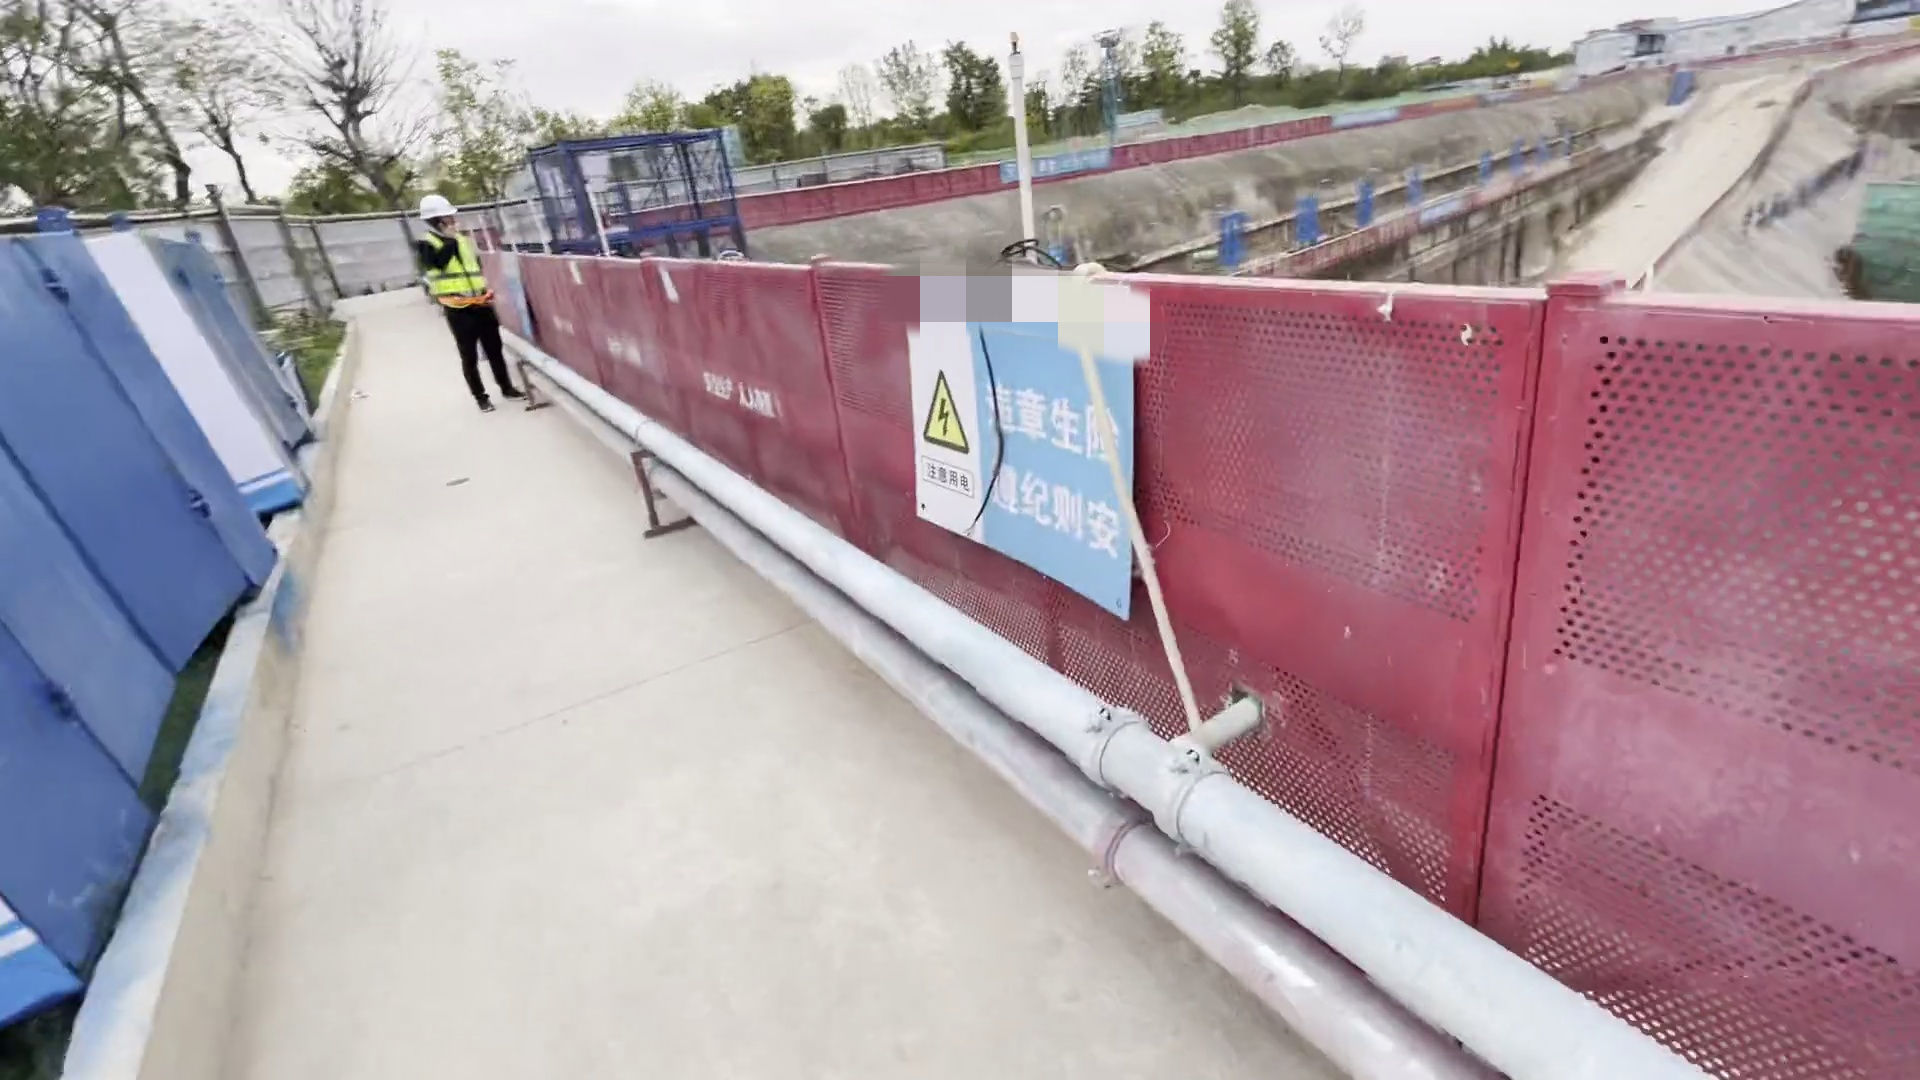fence: (486, 246, 1908, 1068), (719, 78, 1427, 229)
helmet: (416, 189, 458, 224)
person: (415, 192, 528, 416)
slogan: (910, 320, 1129, 570), (999, 145, 1109, 180)
vest: (411, 230, 500, 308)
